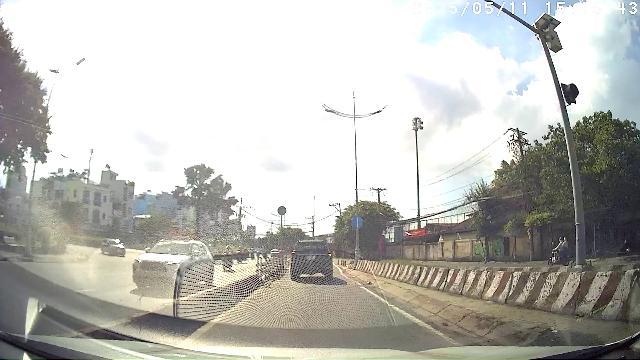301a-cac-xe-chi-duoc-di-thang: (352, 216, 363, 229)
